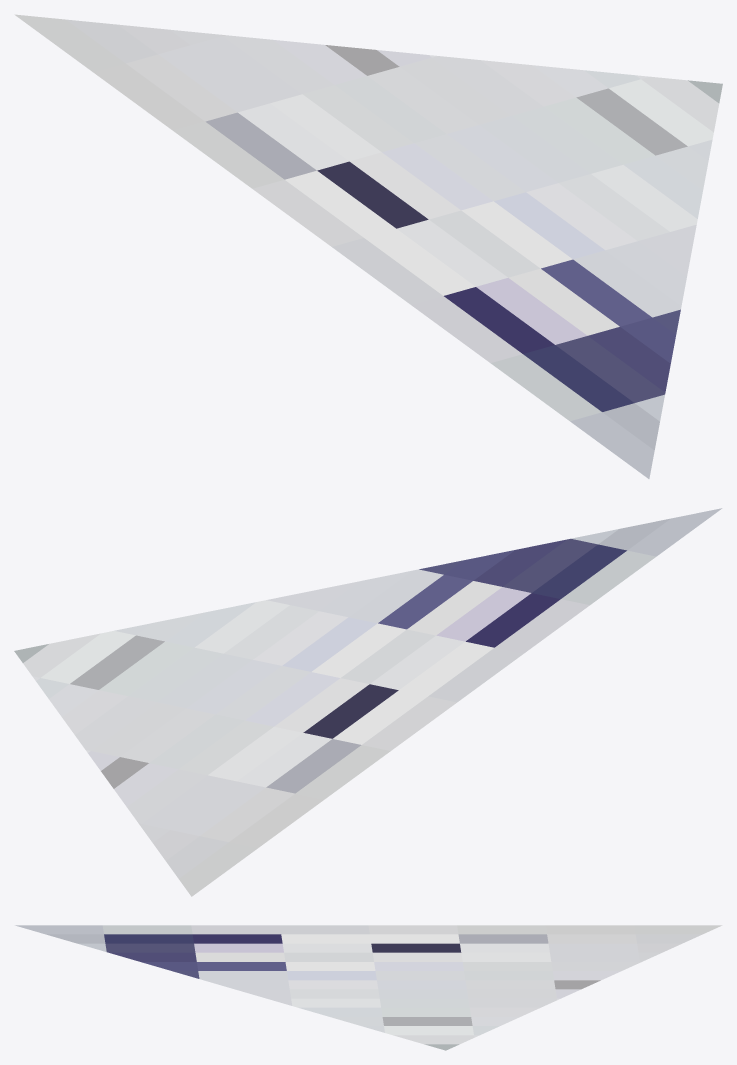
File: mp-3851-geode.glb
3 views of the same model, one above another, from view 1: azimuth 30°, elevation 25°; view 2: azimuth 150°, elevation 25°; view 3: azimuth 270°, elevation 25° (orthographic). The views are drawn at different scales.
Visible parts, largest first — view 1: Node; view 2: Node; view 3: Node.
Boxes of the visible parts, x1,y1,x2,y2 form: Node: (14,14,722,478); Node: (14,508,722,896); Node: (15,925,722,1050).
Size of the model in its own units: 0.1349 by 0 by 0.3223.
Materials: 1 (1 with a texture image).
